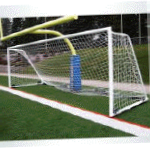goals: (6, 25, 150, 118)
